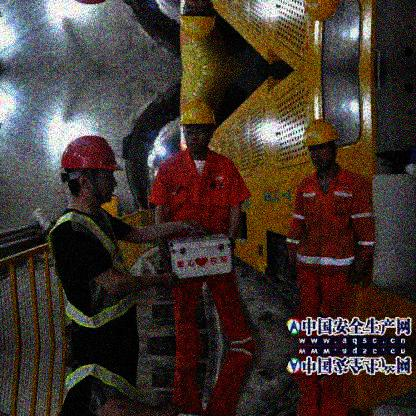helmet: (63, 135, 122, 204), (178, 101, 215, 154), (304, 121, 339, 174)
